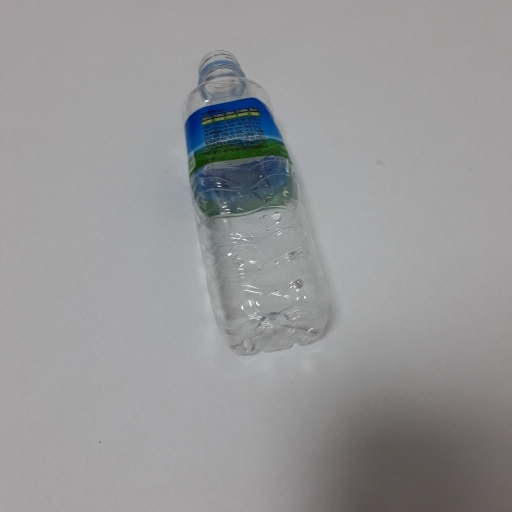Plastic_0: (172, 41, 332, 358)
